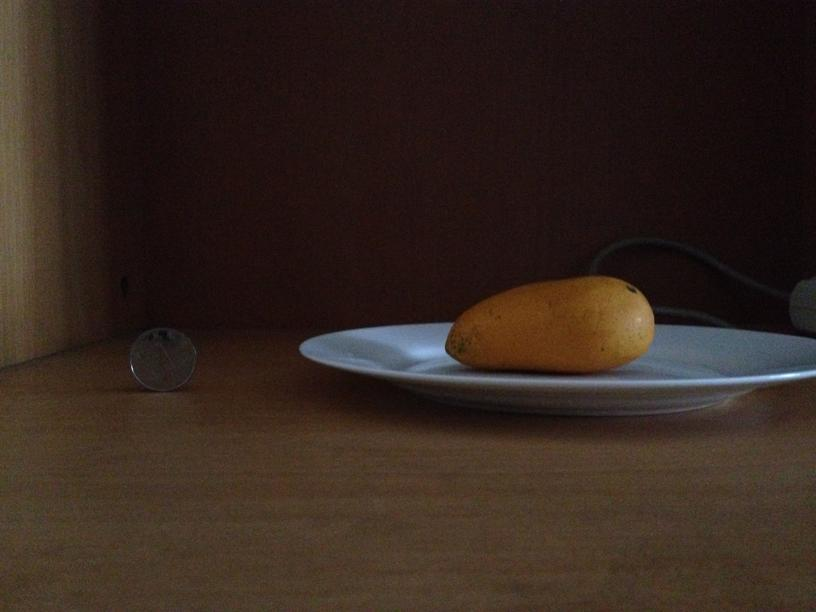coin: (131, 327, 199, 391)
mango: (446, 271, 653, 371)
